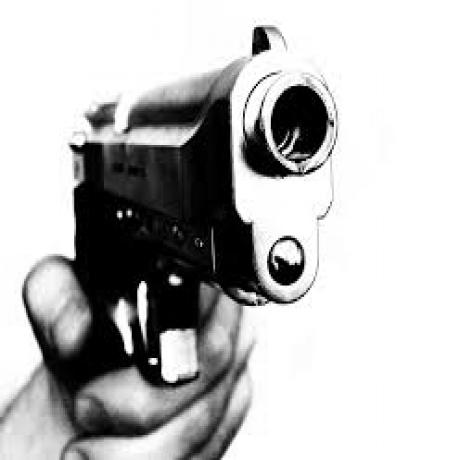Guns: (72, 22, 341, 388)
